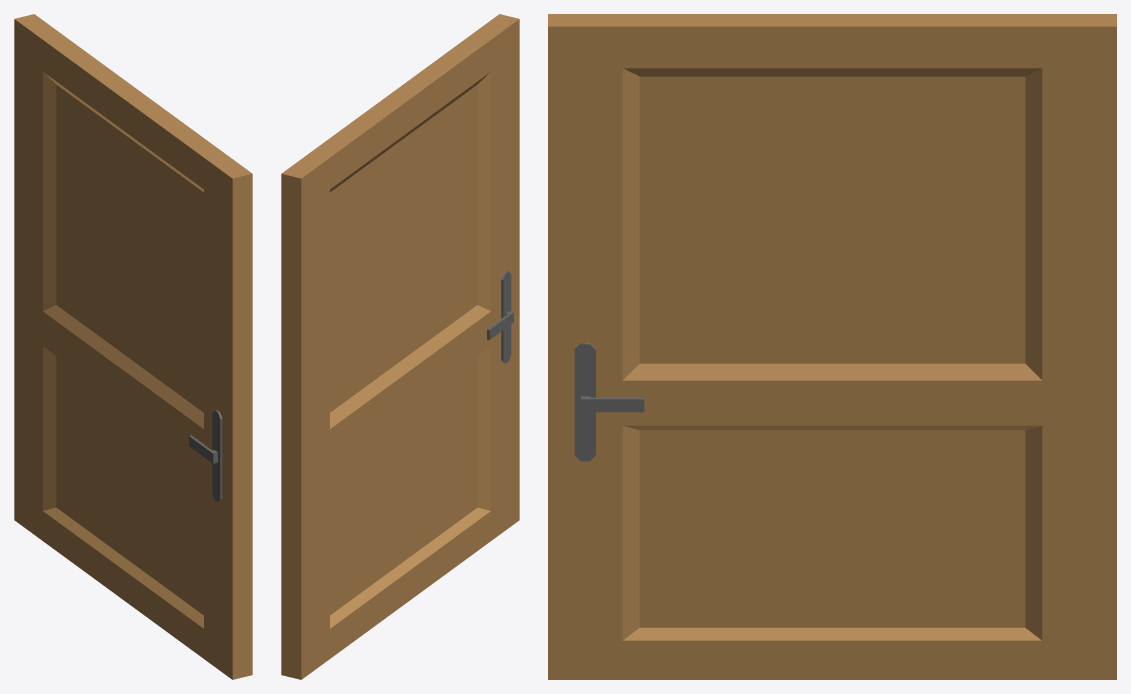
Rendered from fbx_club_door.fbx.
The picture shows the model from 3 angles, left to right: view 1: azimuth 30°, elevation 25°; view 2: azimuth 150°, elevation 25°; view 3: azimuth 270°, elevation 25°; orthographic projection. The views are drawn at different scales.
Parts seen in each view (by area): view 1: fbx_club_door; view 2: fbx_club_door; view 3: fbx_club_door.
Boxes of the visible parts, x1,y1,x2,y2 form: fbx_club_door: [14, 14, 252, 679]; fbx_club_door: [281, 14, 519, 679]; fbx_club_door: [548, 14, 1116, 679].
Size of the model in its own units: 0.2387 by 3.39 by 2.68.
Materials: 1 (1 with a texture image).
